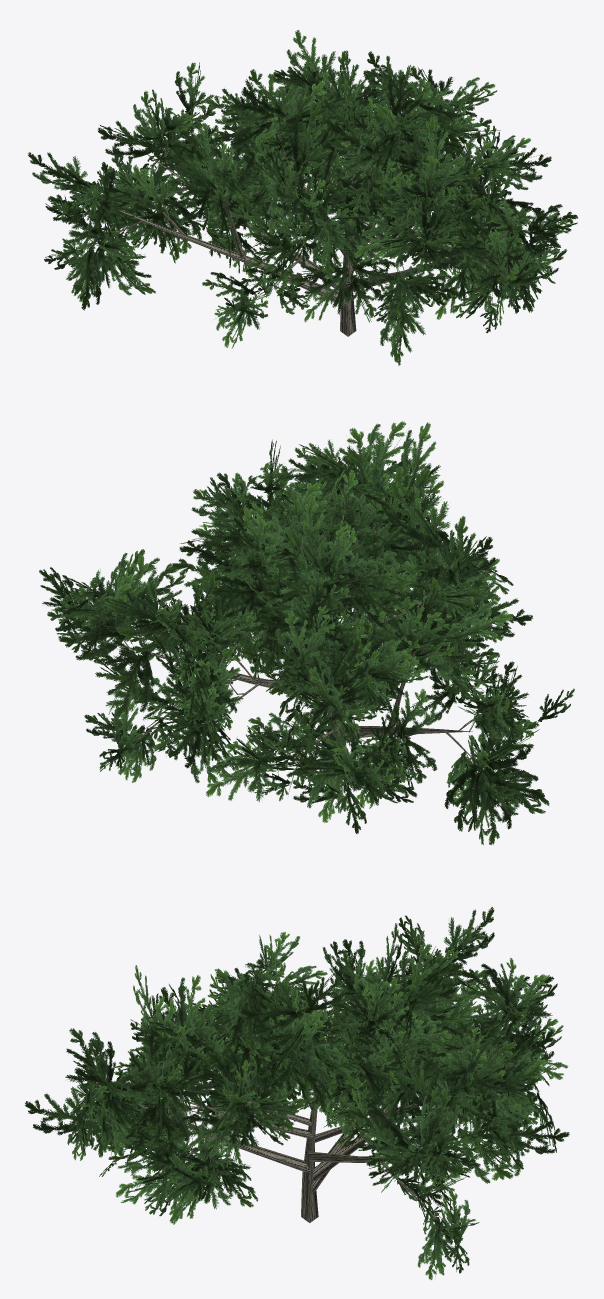
File: tree_LOD0.glb
The picture shows the model from 3 angles, top to bottom: view 1: azimuth 30°, elevation 25°; view 2: azimuth 150°, elevation 25°; view 3: azimuth 270°, elevation 25°; orthographic projection. The views are drawn at different scales.
Visible parts, largest first — view 1: Leaves_LOD0, Branches_LOD0; view 2: Leaves_LOD0, Branches_LOD0; view 3: Leaves_LOD0, Branches_LOD0.
Boxes of the visible parts, <box> form: Leaves_LOD0: <box>27,30,577,365</box>; Branches_LOD0: <box>73,109,535,336</box>; Leaves_LOD0: <box>39,421,574,845</box>; Branches_LOD0: <box>89,454,536,796</box>; Leaves_LOD0: <box>25,907,569,1279</box>; Branches_LOD0: <box>82,966,539,1231</box>.
Bounding box in the file's own units: 33.22 × 19.18 × 32.62.
Materials: 2 (2 with a texture image).
